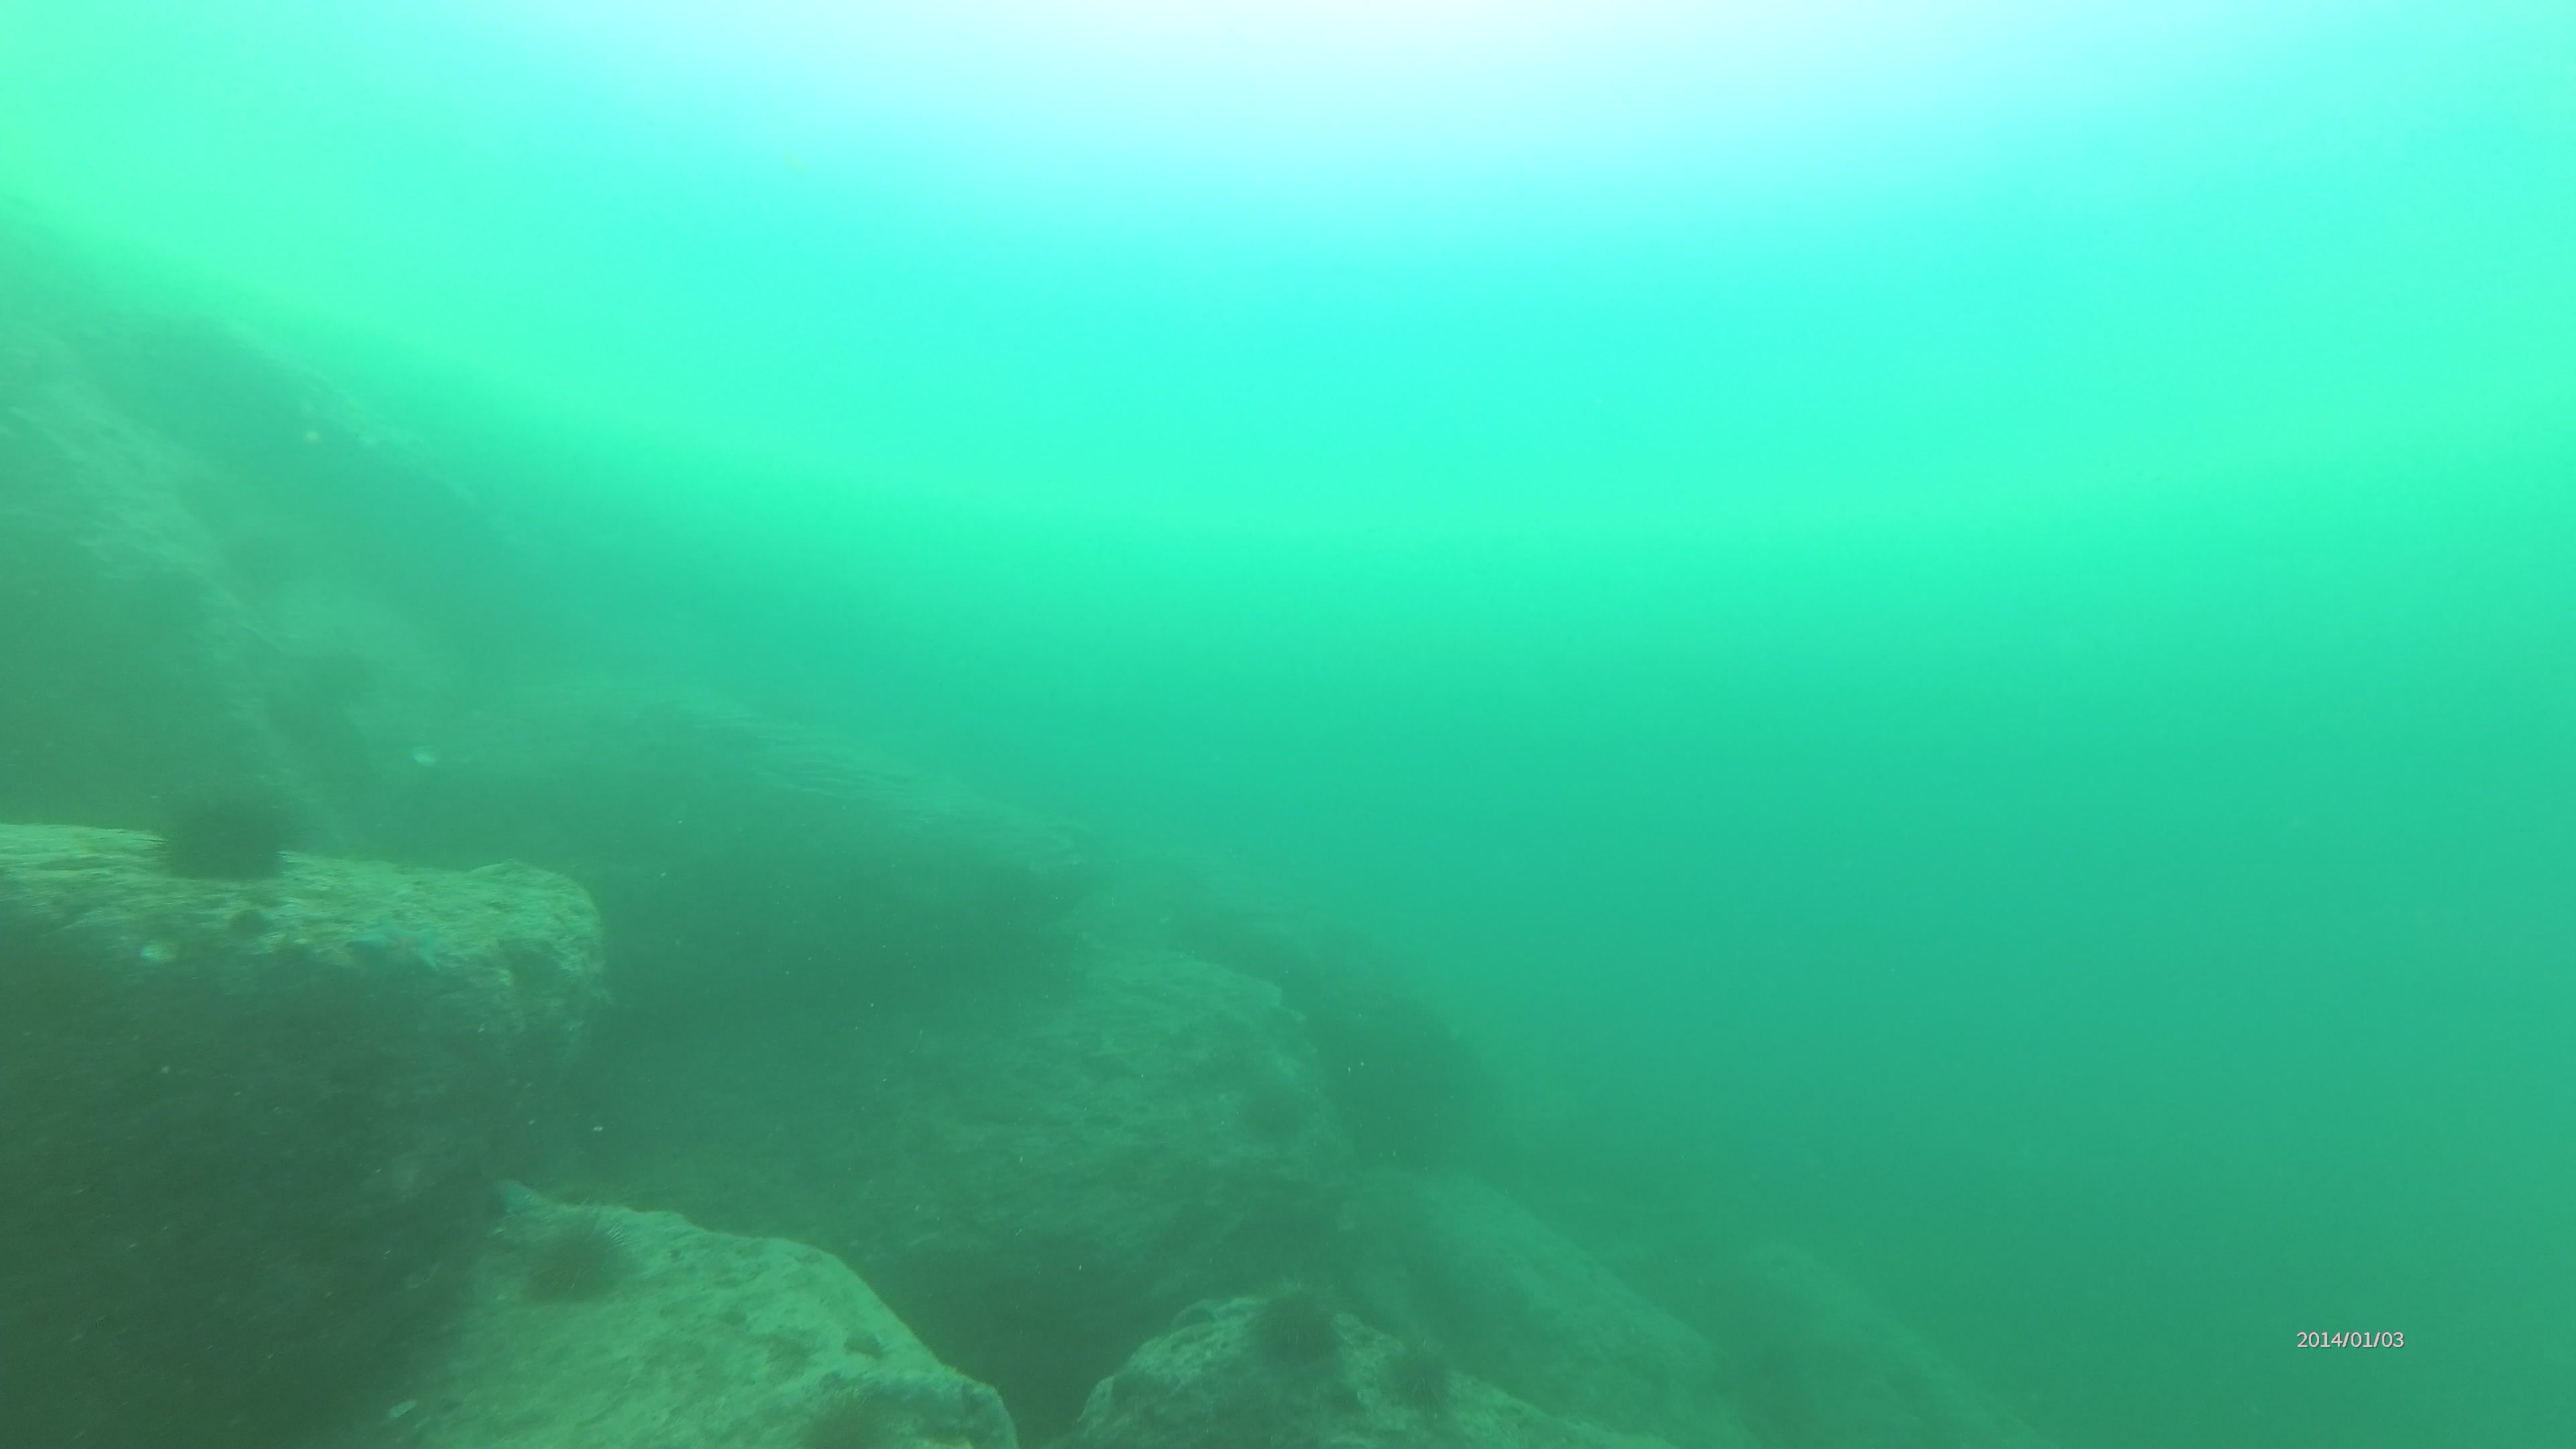echinus: (140, 777, 301, 886), (522, 1215, 628, 1297), (1364, 1338, 1463, 1412), (1254, 1286, 1341, 1362)
starfish: (345, 909, 442, 987)
